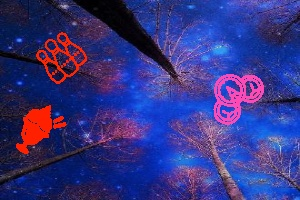三个圆: (212, 73, 264, 124)
保龄球: (34, 33, 88, 84)
杯子冰淇淋: (16, 105, 67, 156)
